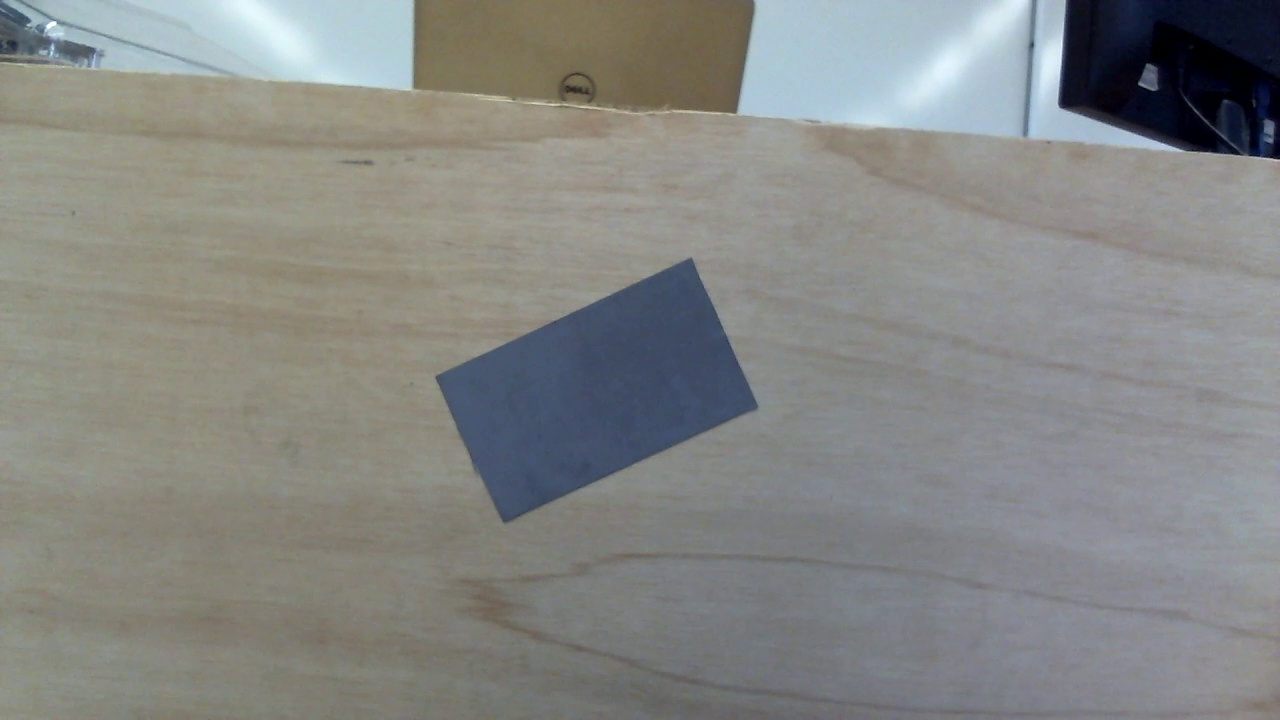Tape: (435, 258, 761, 524)
